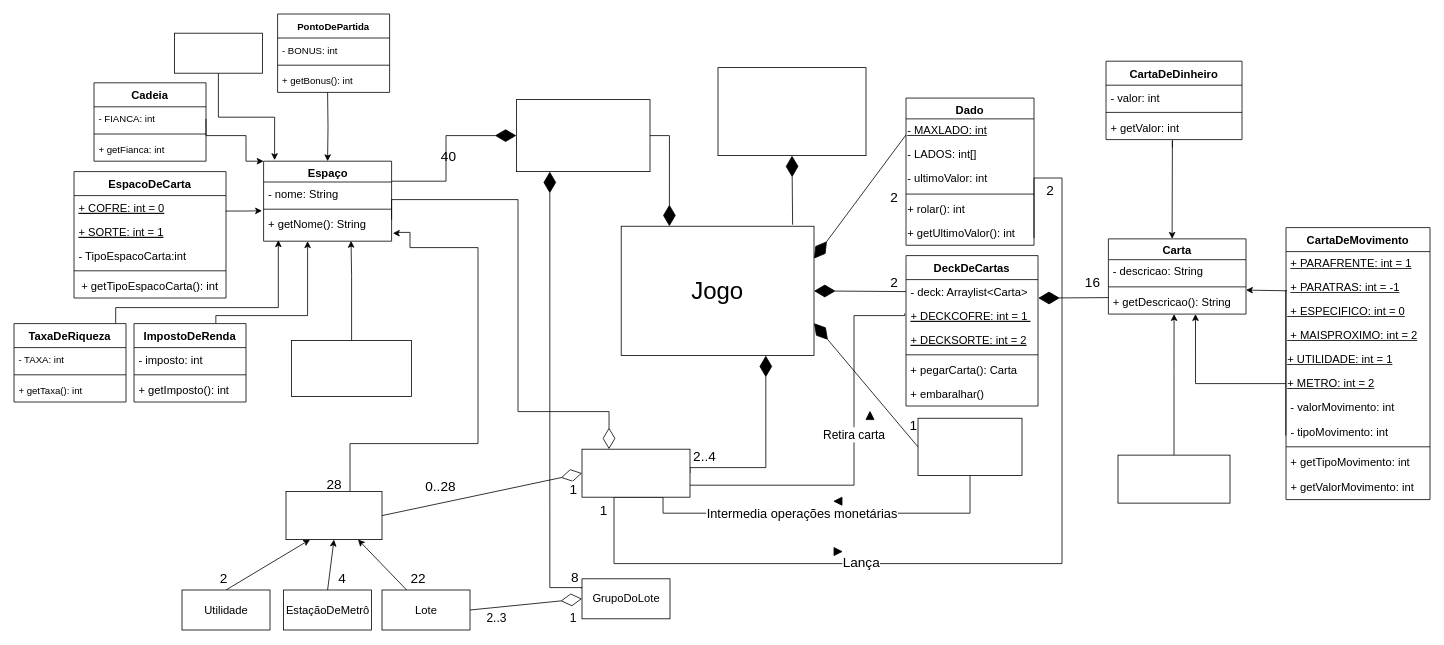
This 1444x645 diagram has some shape labels left out. Here are the shapes that lost their labels. From the top down, the centre of each, then its label:
At point (218, 52): "VaParaCadeia".
At point (791, 111): "Gerenciador".
At point (583, 135): "Tabuleiro".
At point (351, 368): "EstacionamentoGratis".
At point (969, 446): "Banco".
At point (635, 472): "Jogador".
At point (1173, 478): "CartaVaParaCadeia".
At point (333, 515): "Propriedade".
